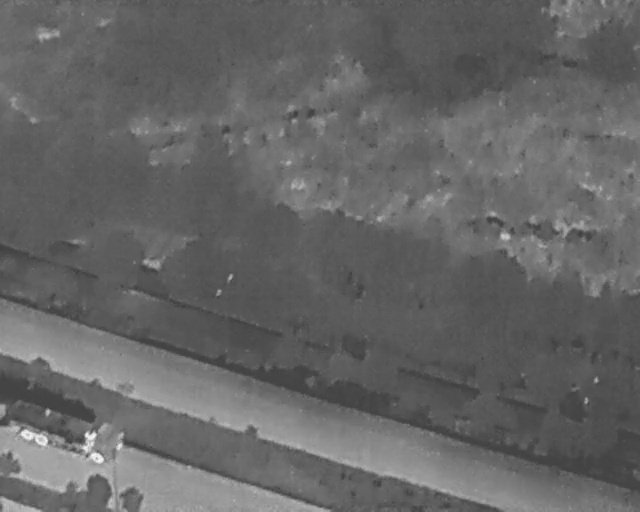OtherVehicle: (0, 388, 128, 473)
